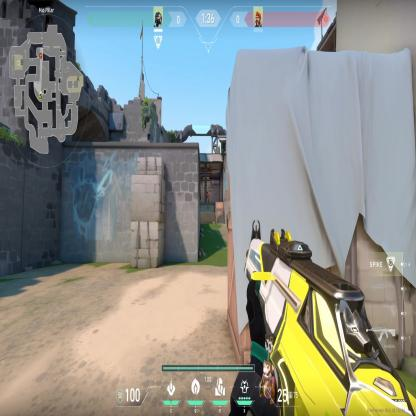enemy: (206, 188, 210, 202)
